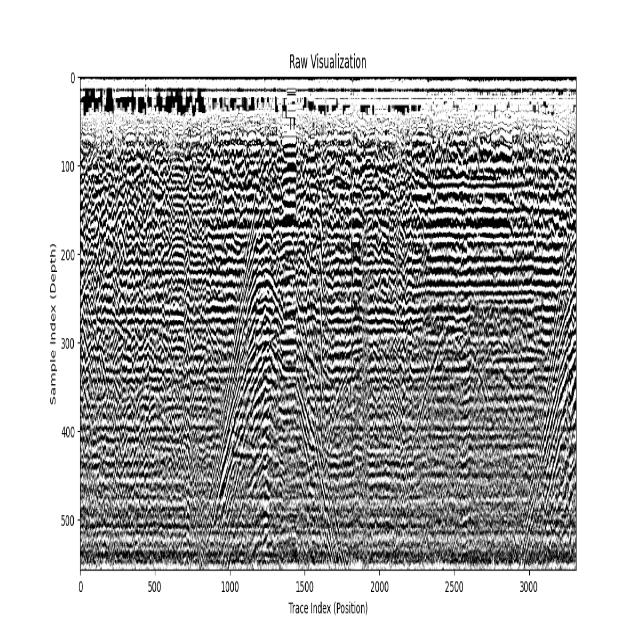anomaly: (195, 127, 358, 562), (511, 223, 576, 563), (411, 300, 514, 467)
